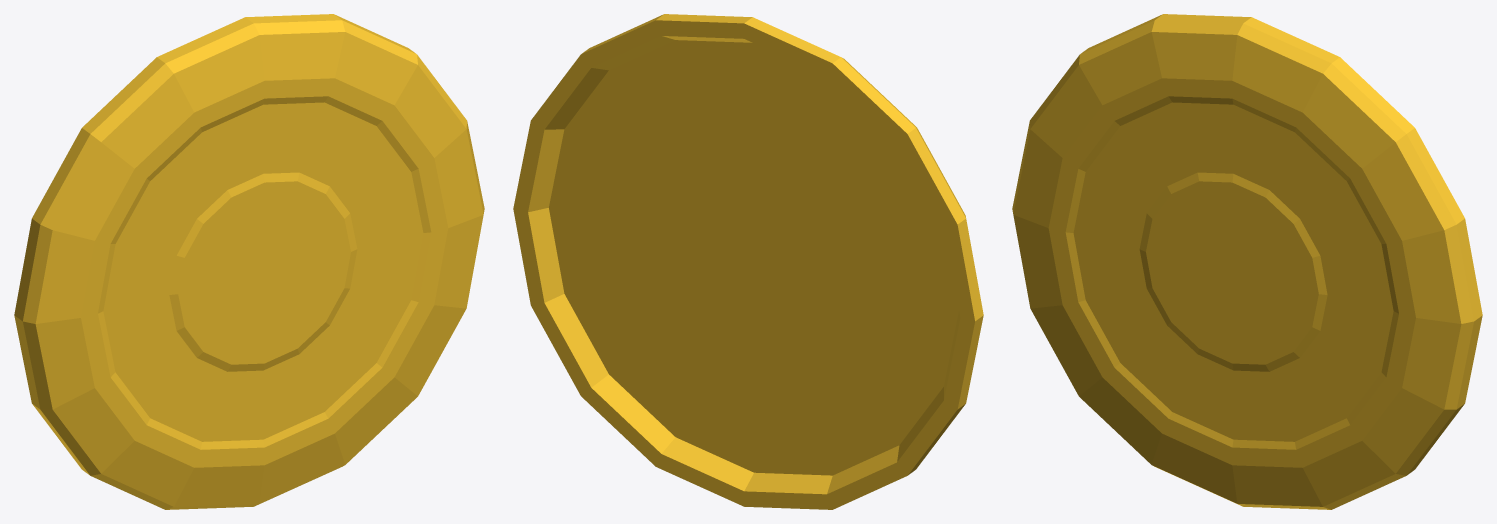
The model's file is Asian_Prop_Gong_01.FBX.
3 views of the same model, side by side, from view 1: azimuth 30°, elevation 25°; view 2: azimuth 150°, elevation 25°; view 3: azimuth 330°, elevation 25° (orthographic).
Visible parts, largest first — view 1: Asian_Prop_Gong_01; view 2: Asian_Prop_Gong_01; view 3: Asian_Prop_Gong_01.
Part boxes in pixels (box(x1,y1,x2,y2)): Asian_Prop_Gong_01: box(14, 14, 484, 509); Asian_Prop_Gong_01: box(513, 14, 983, 509); Asian_Prop_Gong_01: box(1012, 14, 1482, 509).
Bounding box in the file's own units: 1498 × 1498 × 109.
